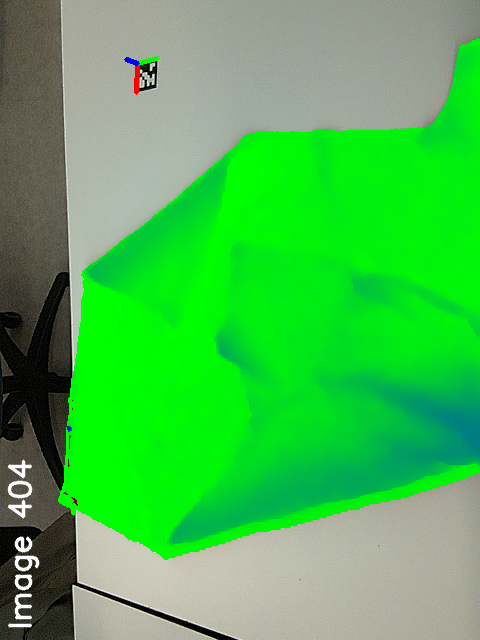V: (144, 283, 205, 333), (209, 320, 256, 368), (221, 230, 264, 274)
